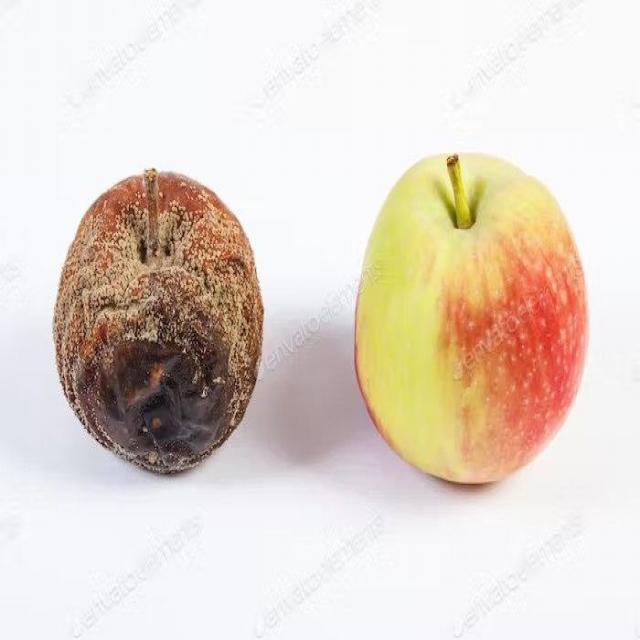Fresh Apple: (358, 148, 588, 482)
Rotten: (69, 168, 258, 458)
